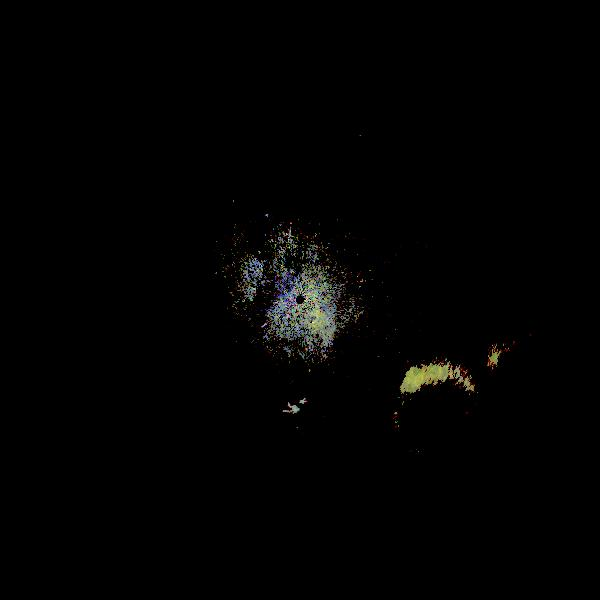roost: (367, 326, 562, 521), (458, 308, 600, 473)
